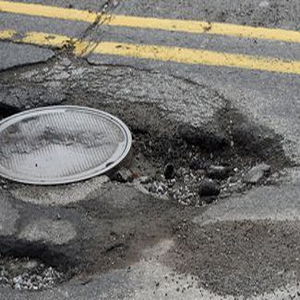pothole: (121, 115, 287, 206), (1, 235, 76, 289)
